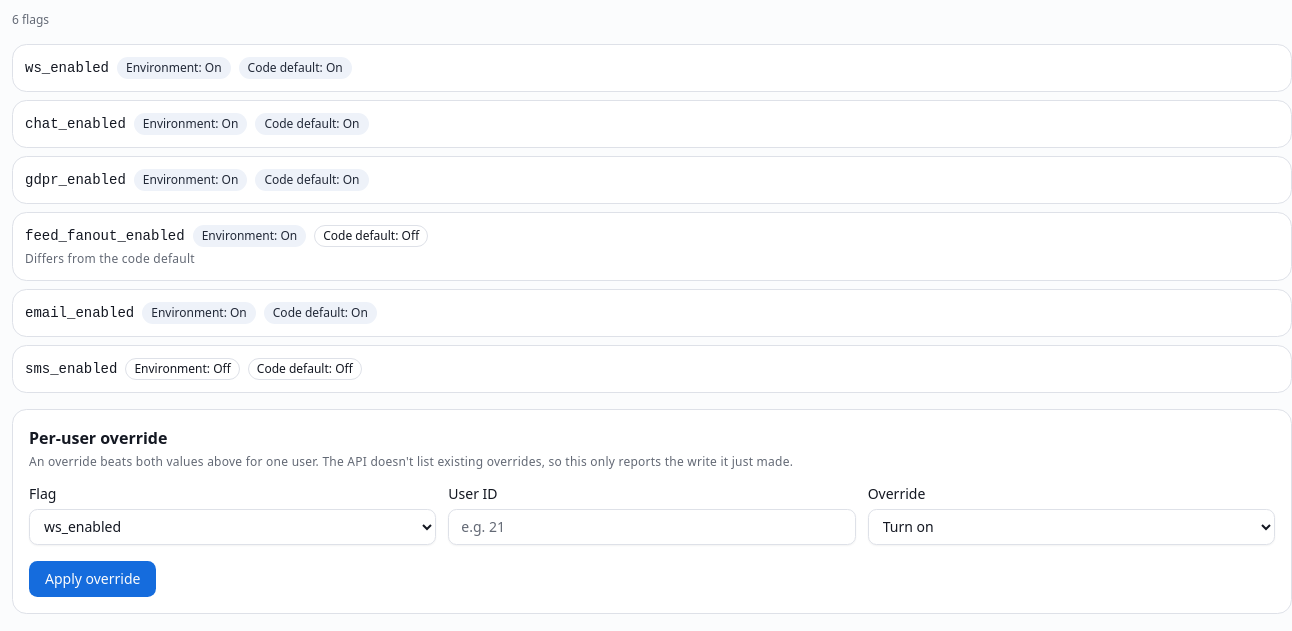
FlagList › sends enabled: null to clear, and says it cleared instead of "off"
Check: the list is shown, box [12,44,1291,393]
Step 1. Select "Clear override" in the dropdown labelled "Override" → (1071, 527), box [868,509,1275,545]
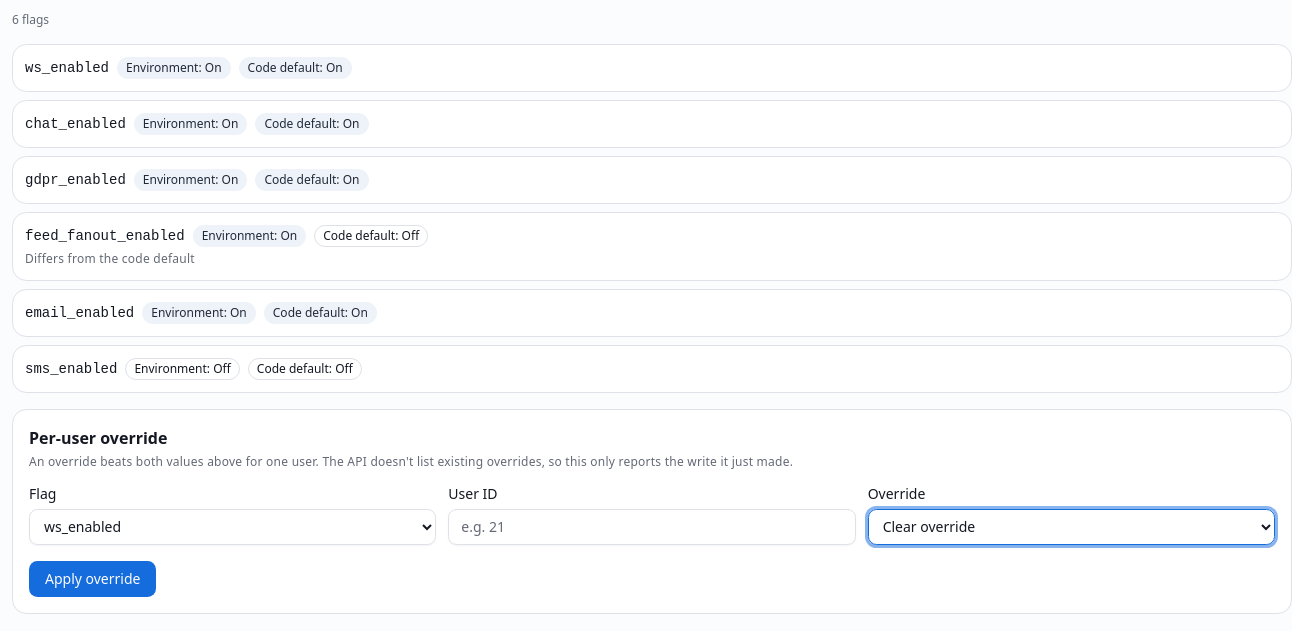
Step 2. Type "21" into the number field labelled "User ID" → (652, 527), box [448,509,856,545]
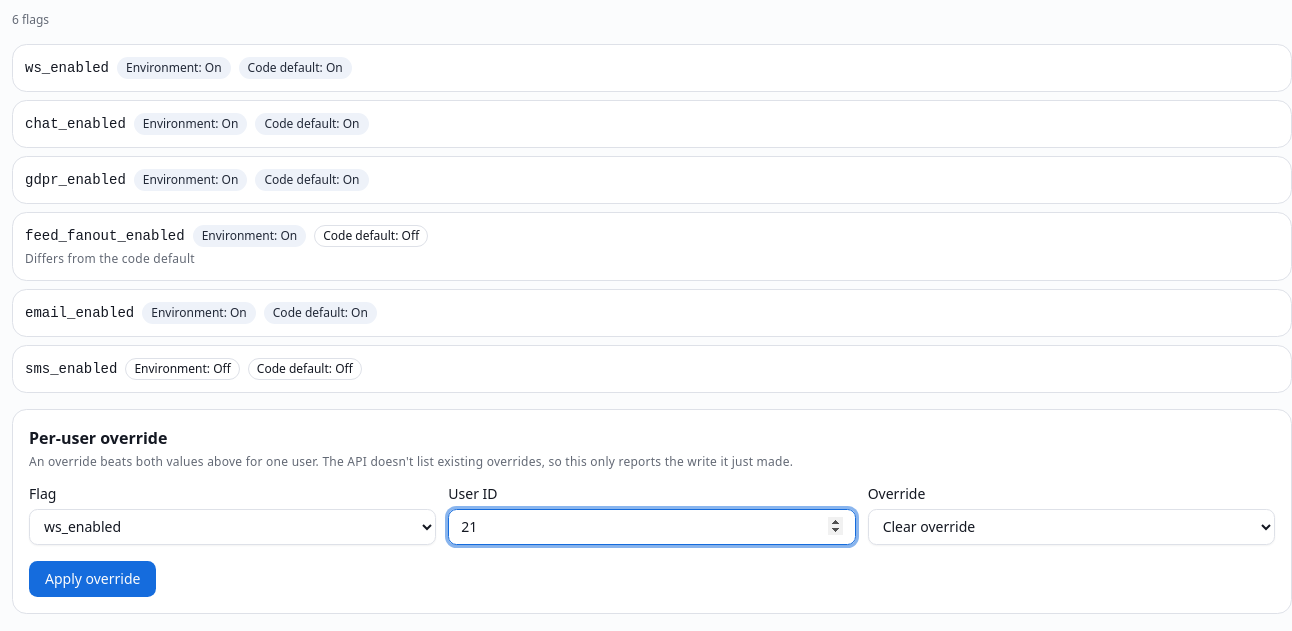
Step 3. Click the button "Apply override" → (93, 579), box [29,561,156,597]
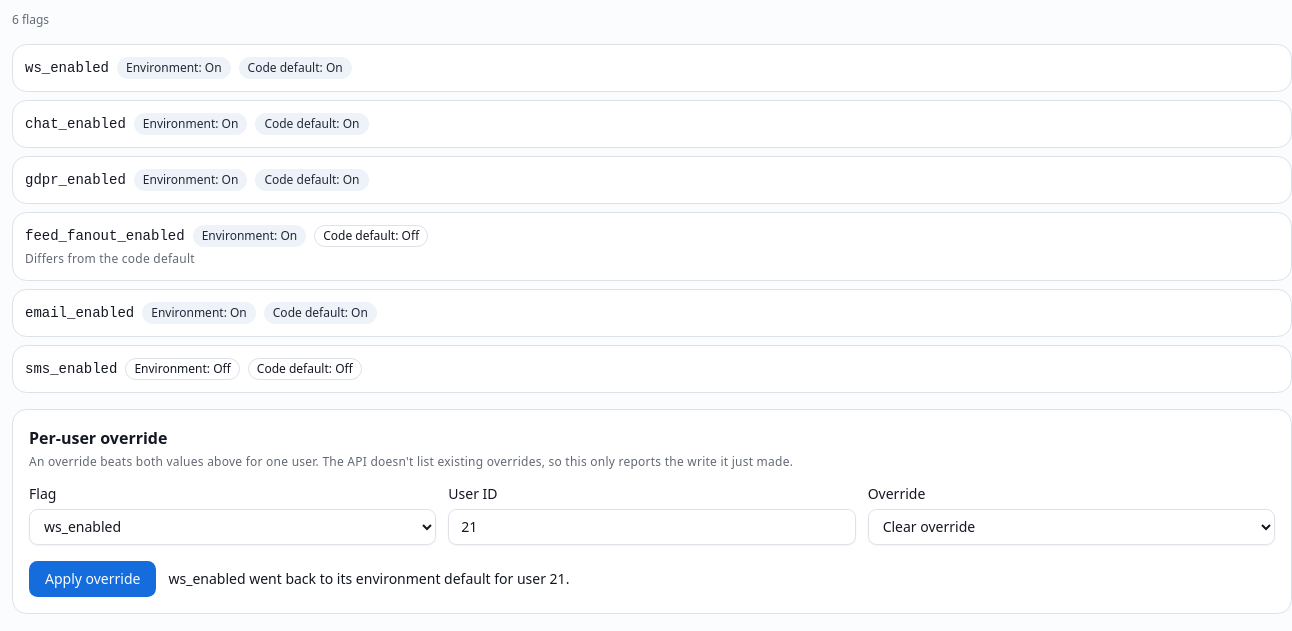
Check: the message reads "ws_enabled went back to its environment default for user 21.", box [168,569,569,588]
